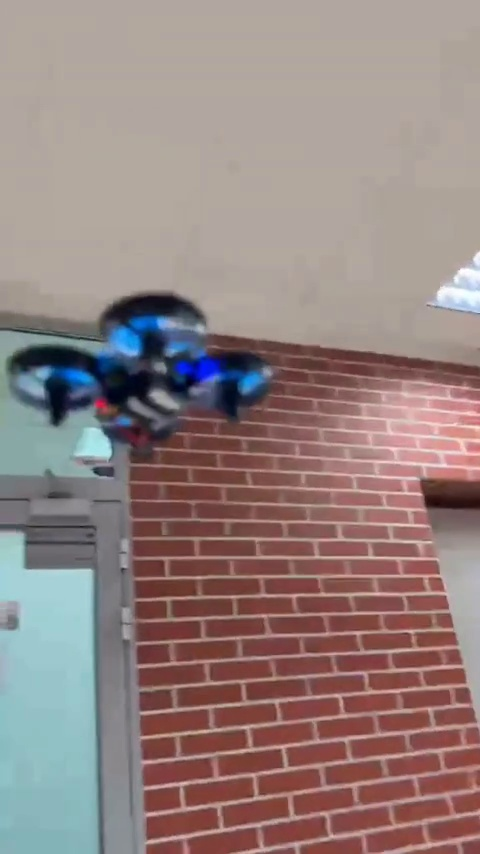drone: (17, 297, 262, 445)
